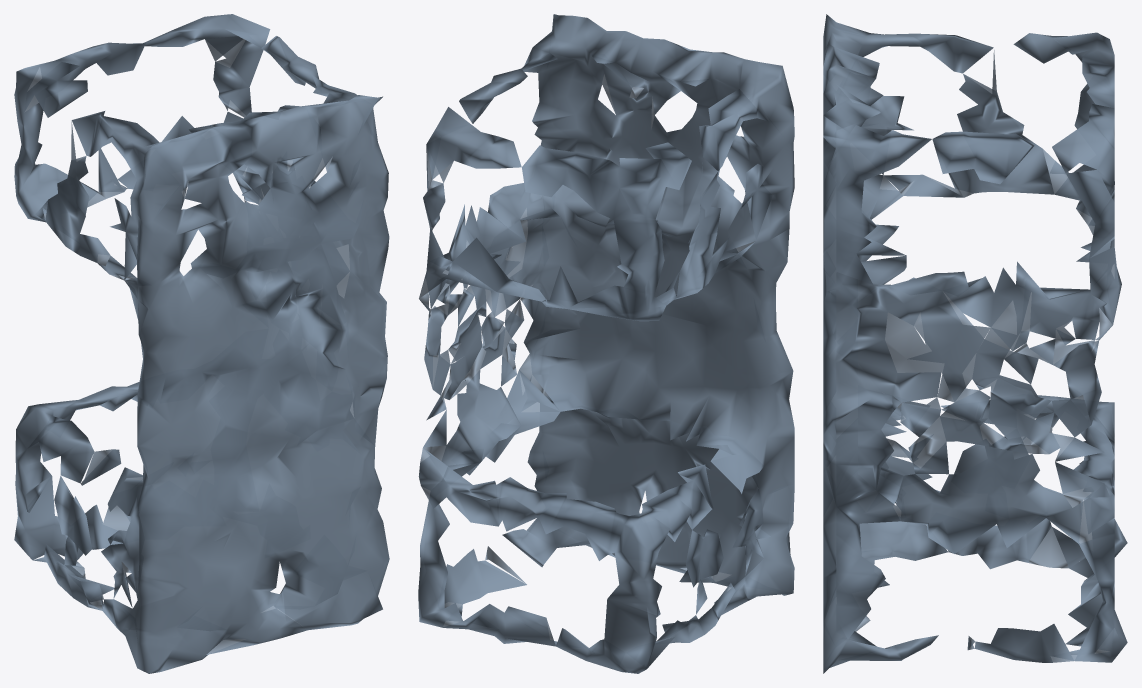
File: sample_400_orig.obj
3 renders of one model, left to right at view 1: azimuth 30°, elevation 25°; view 2: azimuth 150°, elevation 25°; view 3: azimuth 270°, elevation 25°, orthographic. The views are drawn at different scales.
Size of the model in its own units: 0.8216 by 1.65 by 0.8233.
